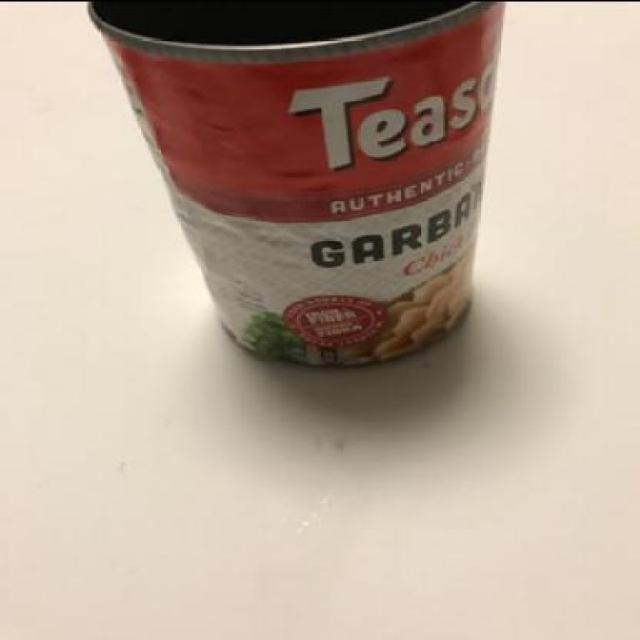METAL: (89, 1, 509, 368)
